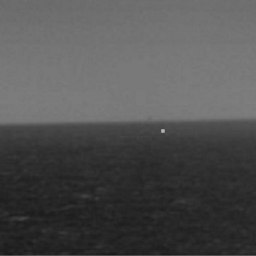Target: (159, 126, 167, 134)
